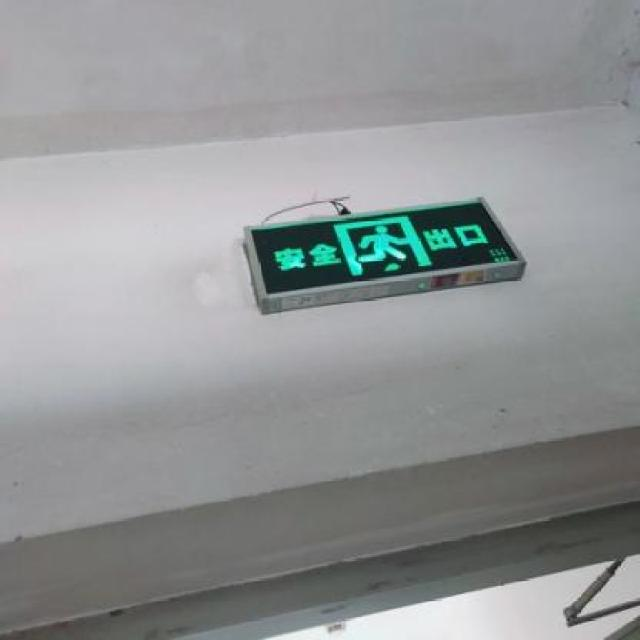exit_sign: (231, 194, 528, 309)
